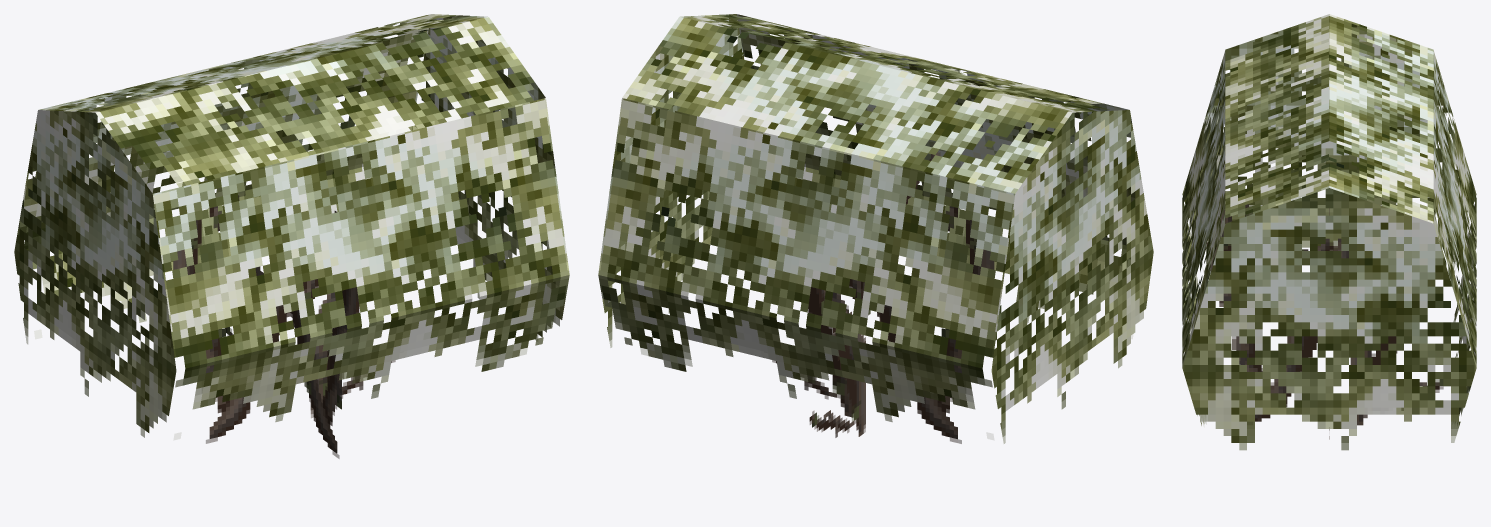
Rendered from bush_long_half_roots_winter.glb.
The picture shows the model from 3 angles, left to right: view 1: azimuth 30°, elevation 25°; view 2: azimuth 150°, elevation 25°; view 3: azimuth 270°, elevation 25°; orthographic projection. The views are drawn at different scales.
Parts seen in each view (by area): view 1: bush_long_half_roots_winter; view 2: bush_long_half_roots_winter; view 3: bush_long_half_roots_winter.
Part boxes in pixels (<box>): bush_long_half_roots_winter: <box>14,14,569,458</box>; bush_long_half_roots_winter: <box>598,14,1153,443</box>; bush_long_half_roots_winter: <box>1182,14,1476,450</box>.
Size of the model in its own units: 1.01 by 0.8765 by 0.7191.
2 materials, 2 textured.
